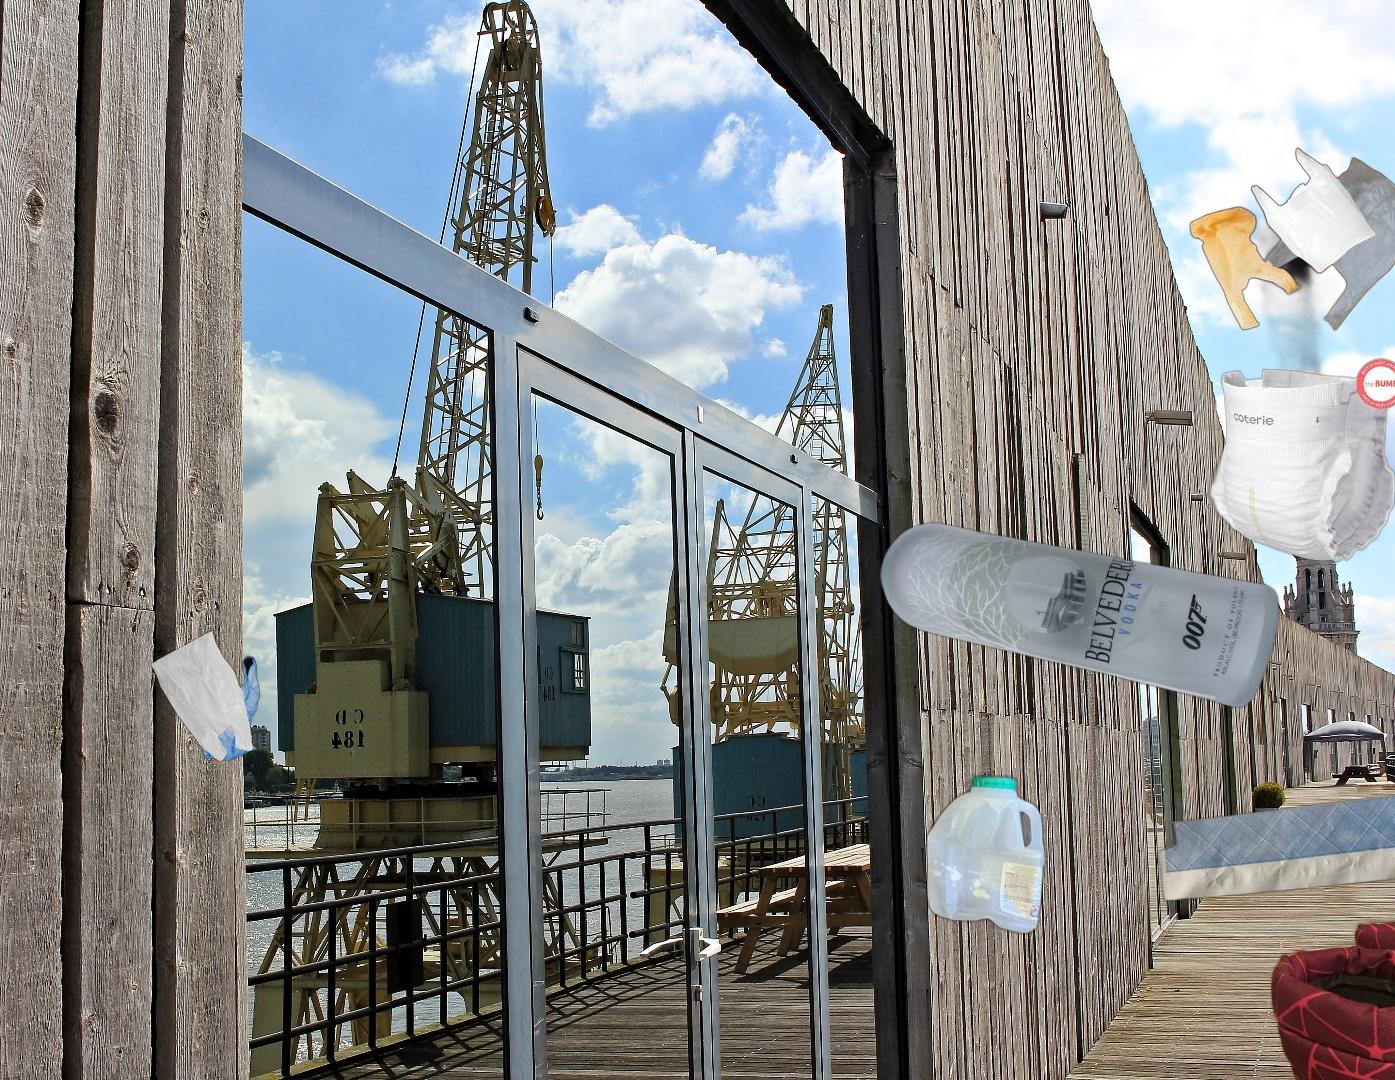glass: (875, 518, 1283, 711)
paper: (1153, 592, 1395, 905)
plastic-bag: (1188, 109, 1395, 409), (148, 628, 263, 764)
plastic-bottles: (922, 769, 1049, 940)
shoes: (1267, 911, 1395, 1080)
trash: (1204, 355, 1395, 565)
trashbox-cardboard: (1373, 243, 1395, 775)
